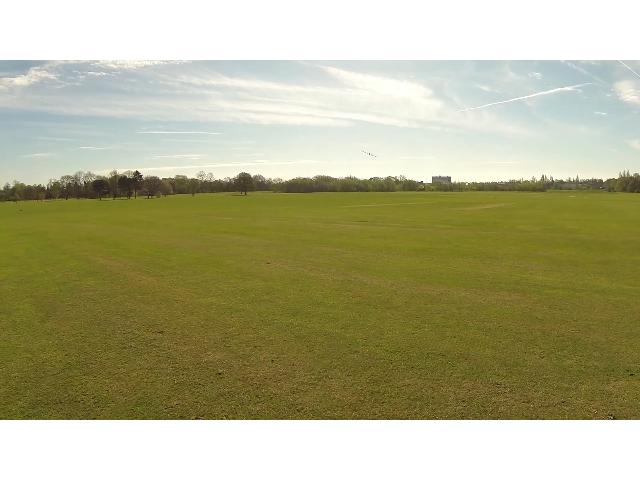Anti-Drone: (350, 142, 388, 166)
